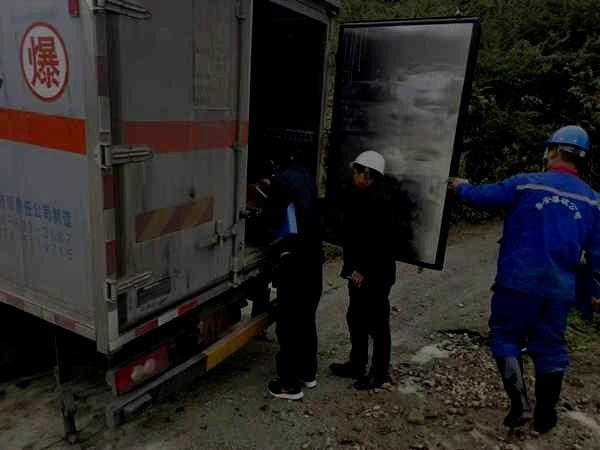helmet: (545, 125, 589, 171), (349, 150, 385, 187)
